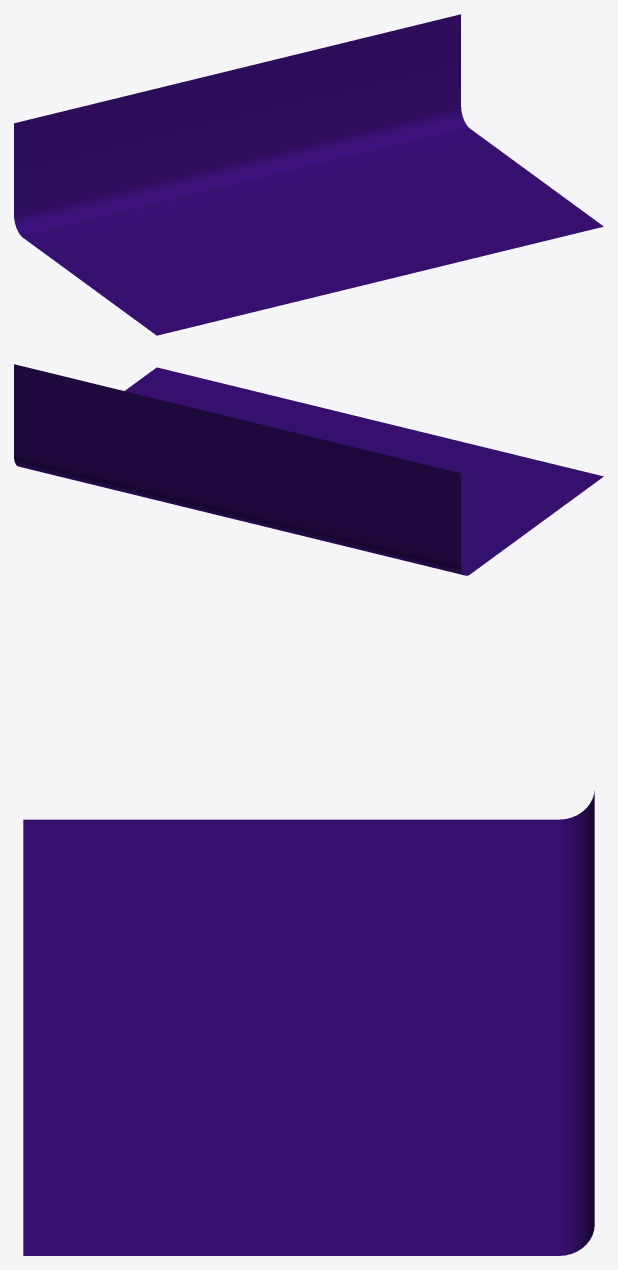
File: intro_bg.glb
3 renders of one model, top to bottom at view 1: azimuth 30°, elevation 25°; view 2: azimuth 150°, elevation 25°; view 3: azimuth 270°, elevation 25°, orthographic. The views are drawn at different scales.
Visible parts, largest first — view 1: Plane; view 2: Plane; view 3: Plane.
Part boxes in pixels (x1,y1,x2,y2): Plane: (14,14,603,335); Plane: (14,364,603,575); Plane: (23,791,594,1255).
Bounding box in the file's own units: 17.36 × 4 × 9.61.
